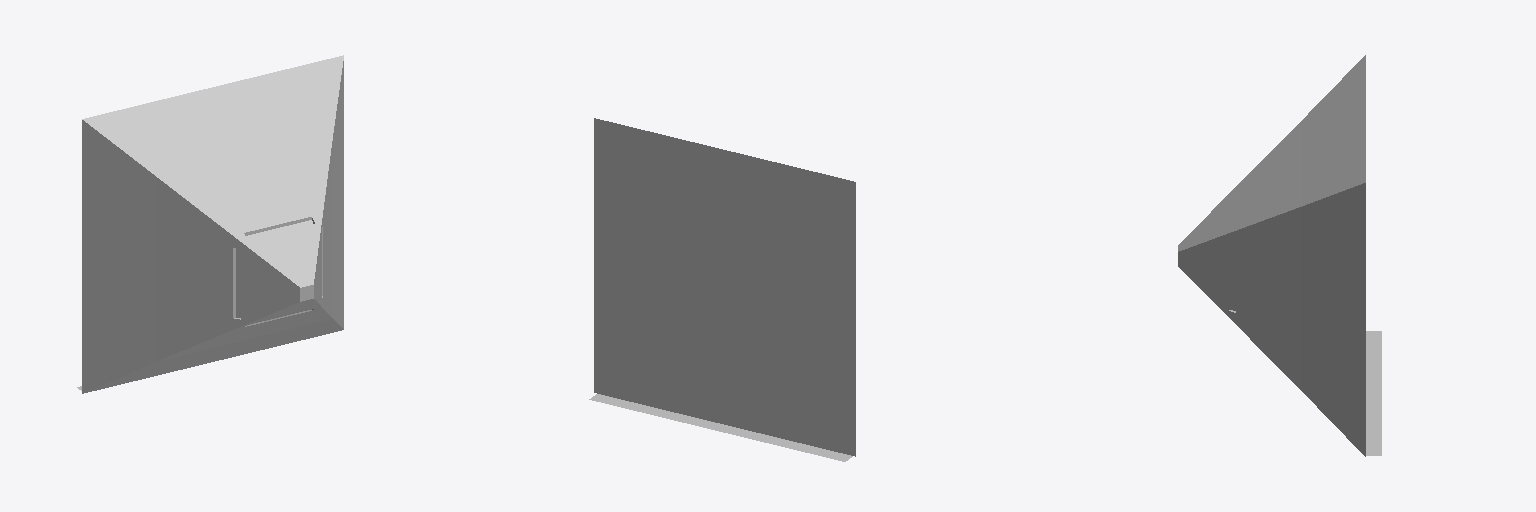
The model's file is piramis.obj.
3 views of the same model, side by side, from view 1: azimuth 30°, elevation 25°; view 2: azimuth 150°, elevation 25°; view 3: azimuth 270°, elevation 25° (orthographic).
Visible parts, largest first — view 1: vgEpyrmd_dy; view 2: vgEpyrmd_dy; view 3: vgEpyrmd_dy.
Boxes of the visible parts, x1,y1,x2,y2 form: vgEpyrmd_dy: [77, 55, 343, 393]; vgEpyrmd_dy: [589, 118, 855, 461]; vgEpyrmd_dy: [1178, 55, 1381, 456].
Bounding box in the file's own units: 132 × 132 × 89.32.